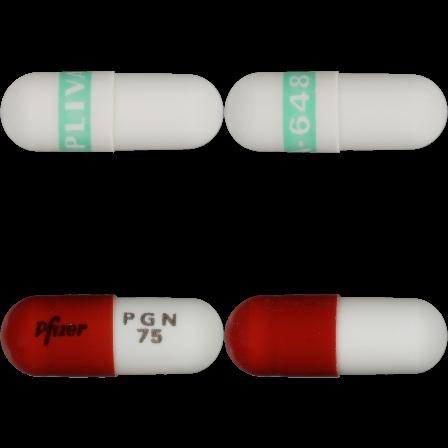42549-599: (0, 0, 224, 224)
